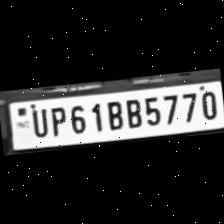0: (196, 87, 220, 121)
1: (86, 100, 105, 134)
5: (141, 92, 163, 128)
6: (64, 101, 88, 136)
7: (176, 88, 198, 124), (160, 90, 180, 126)
B: (102, 96, 124, 132), (121, 94, 143, 130)
P: (46, 103, 68, 137)
U: (26, 105, 49, 139)
